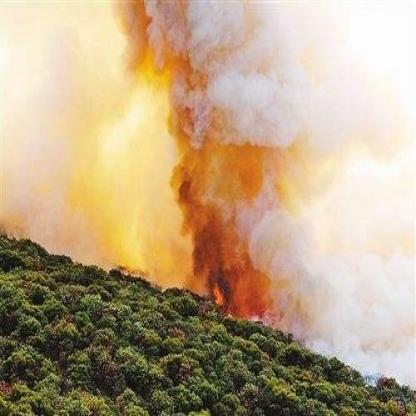fire: (188, 245, 244, 316)
smoke: (11, 10, 401, 248)
